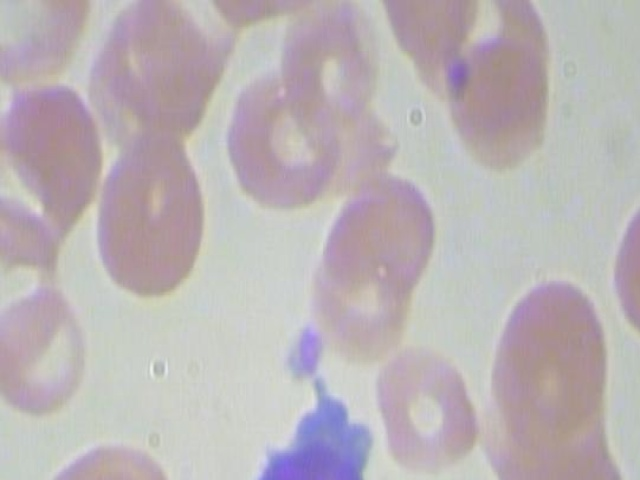Platelets: (278, 317, 329, 388)
RBC: (88, 126, 217, 302), (219, 64, 339, 214), (443, 34, 557, 176), (374, 338, 482, 476), (0, 282, 88, 425), (0, 0, 94, 93), (190, 0, 342, 29), (0, 471, 40, 480)
WBC: (224, 375, 386, 480)
